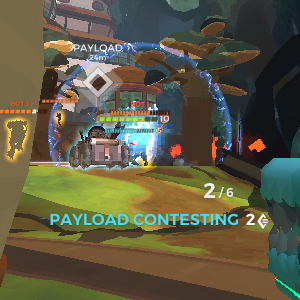model: (130, 122, 154, 163), (5, 116, 24, 161), (55, 110, 64, 126)
